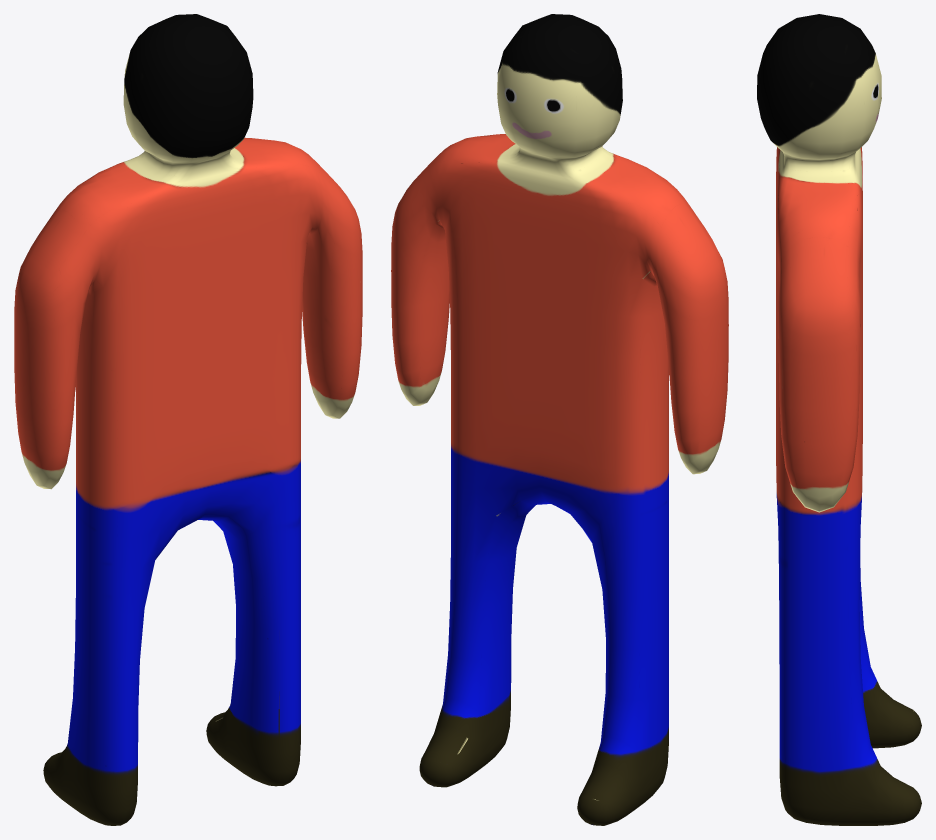
Rendered from Person.glb.
3 renders of one model, left to right at view 1: azimuth 30°, elevation 25°; view 2: azimuth 150°, elevation 25°; view 3: azimuth 270°, elevation 25°, orthographic. The views are drawn at different scales.
Parts seen in each view (by area): view 1: Cube; view 2: Cube; view 3: Cube.
Part boxes in pixels (x1,y1,x2,y2): Cube: (14,14,362,825); Cube: (391,14,728,825); Cube: (757,14,921,825).
Bounding box in the file's own units: 5.18 × 11.73 × 2.3.
Materials: 1 (1 with a texture image).
